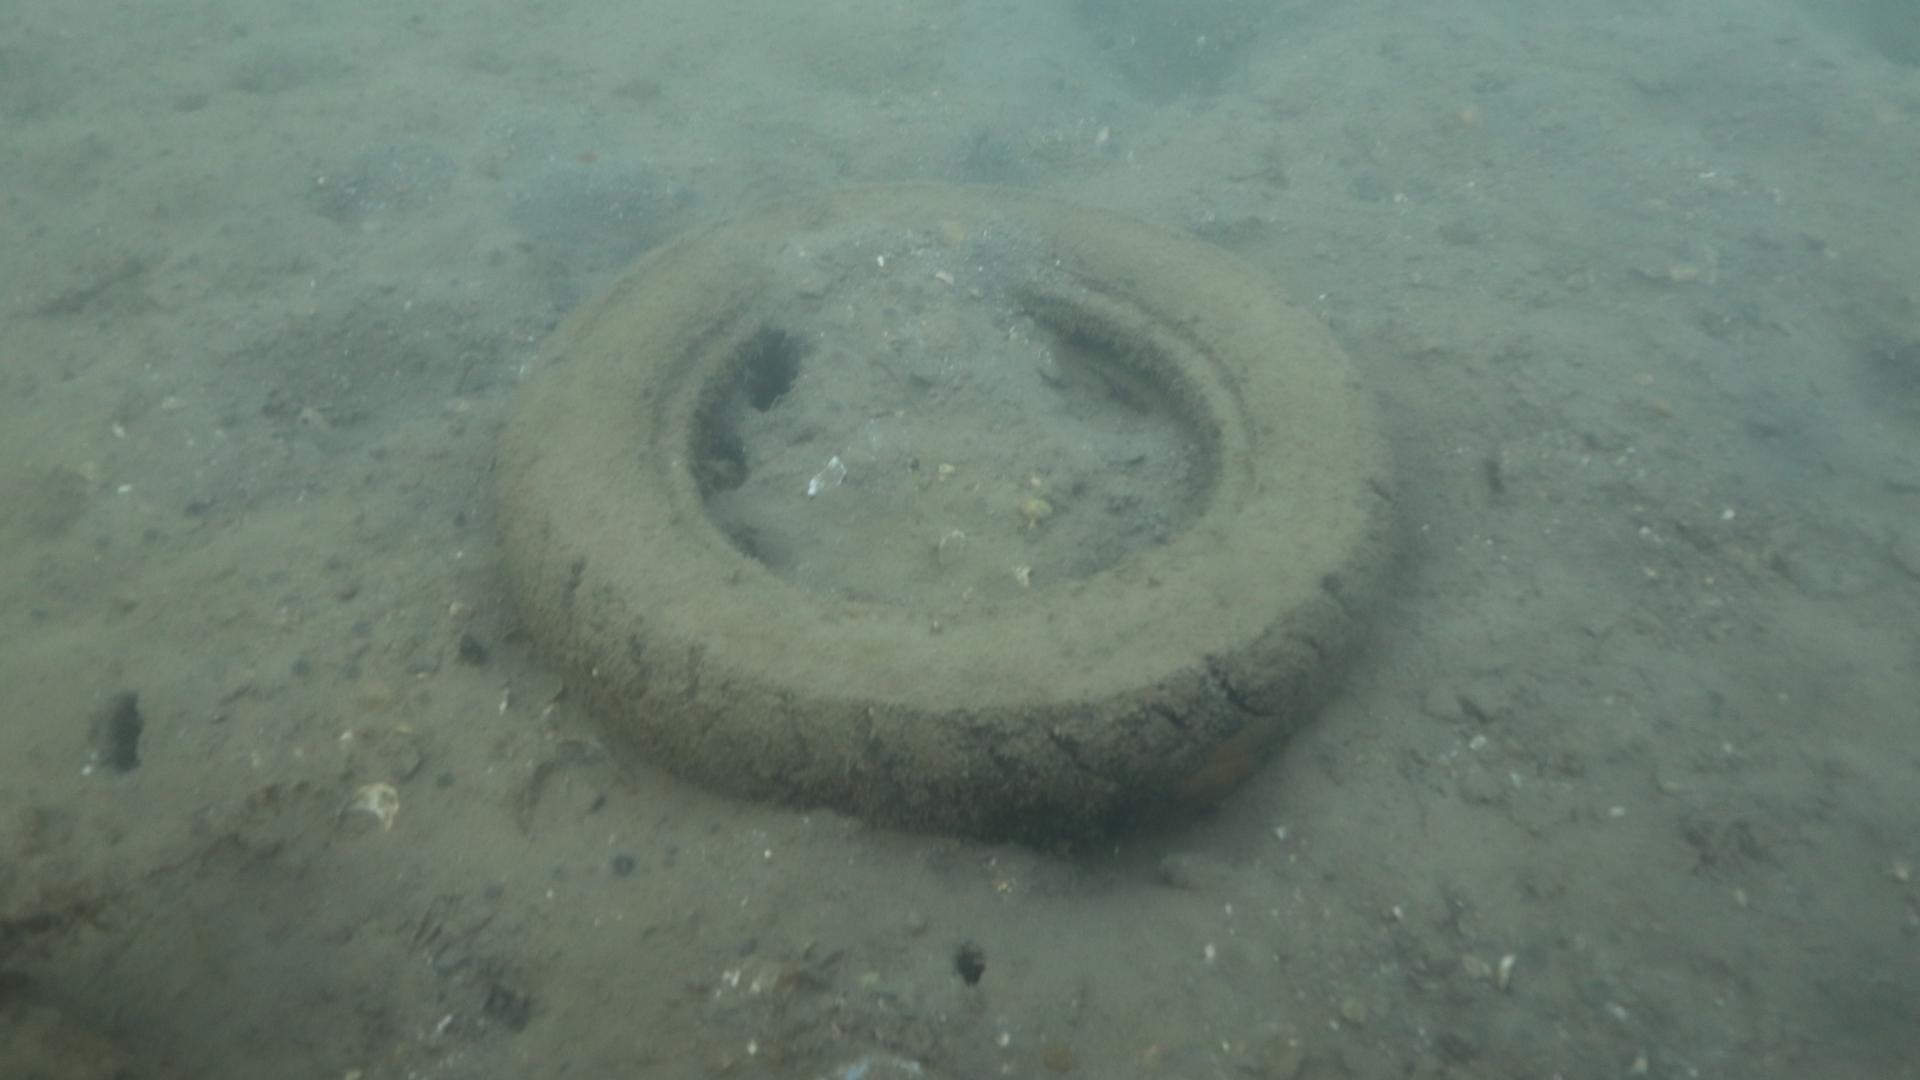tire: (492, 181, 1395, 844)
